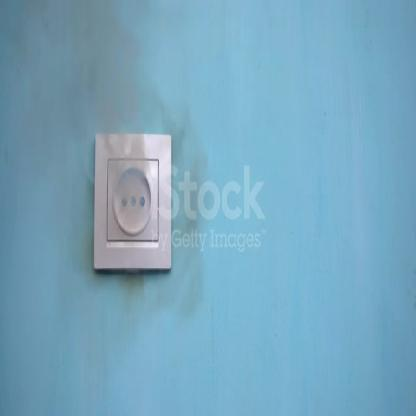smoke: (1, 5, 219, 416)
